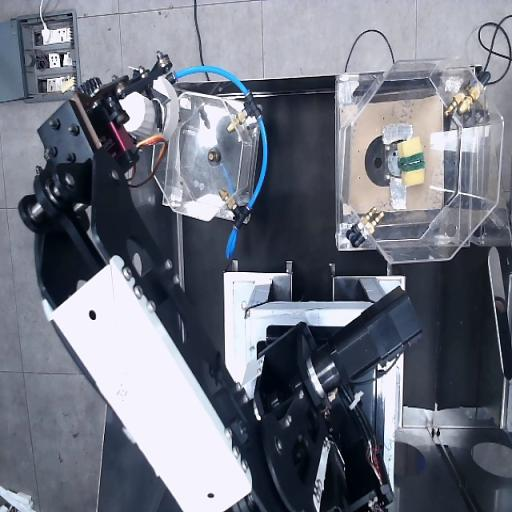cup in rinse station: (120, 78, 177, 140)
